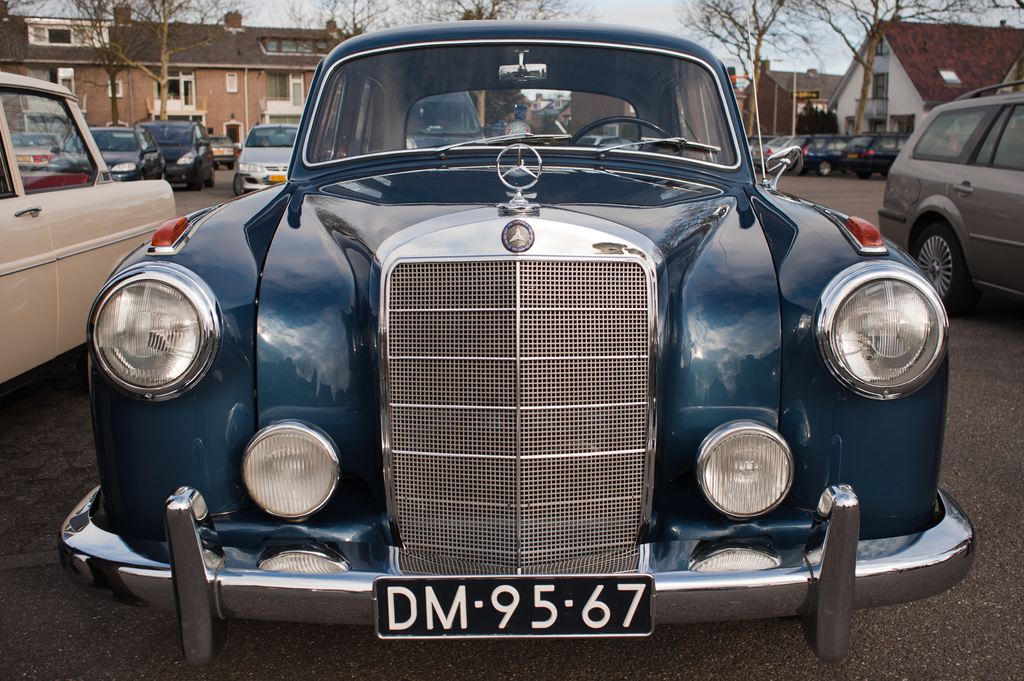Car: (0, 14, 1023, 668)
